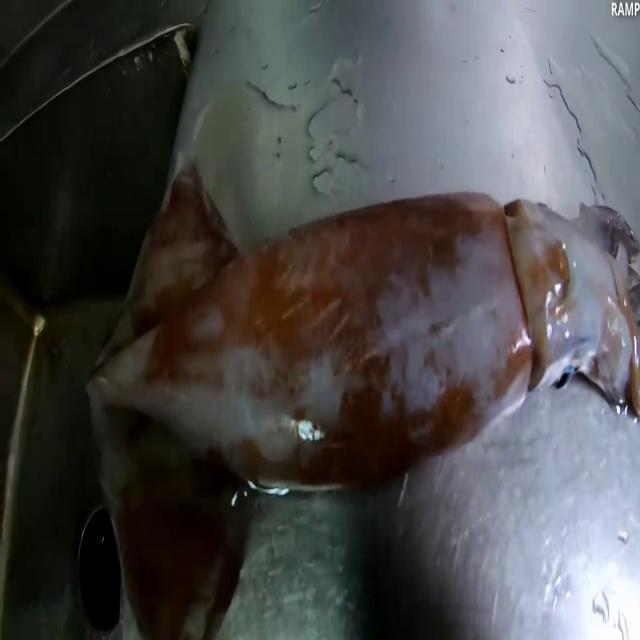squid: (87, 161, 640, 640)
